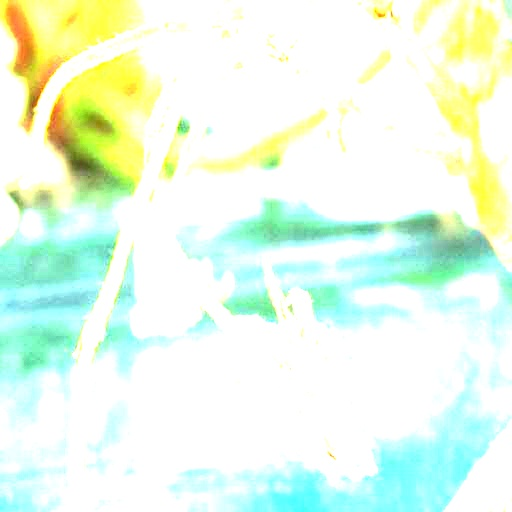Gray Mold: (218, 257, 384, 482)
